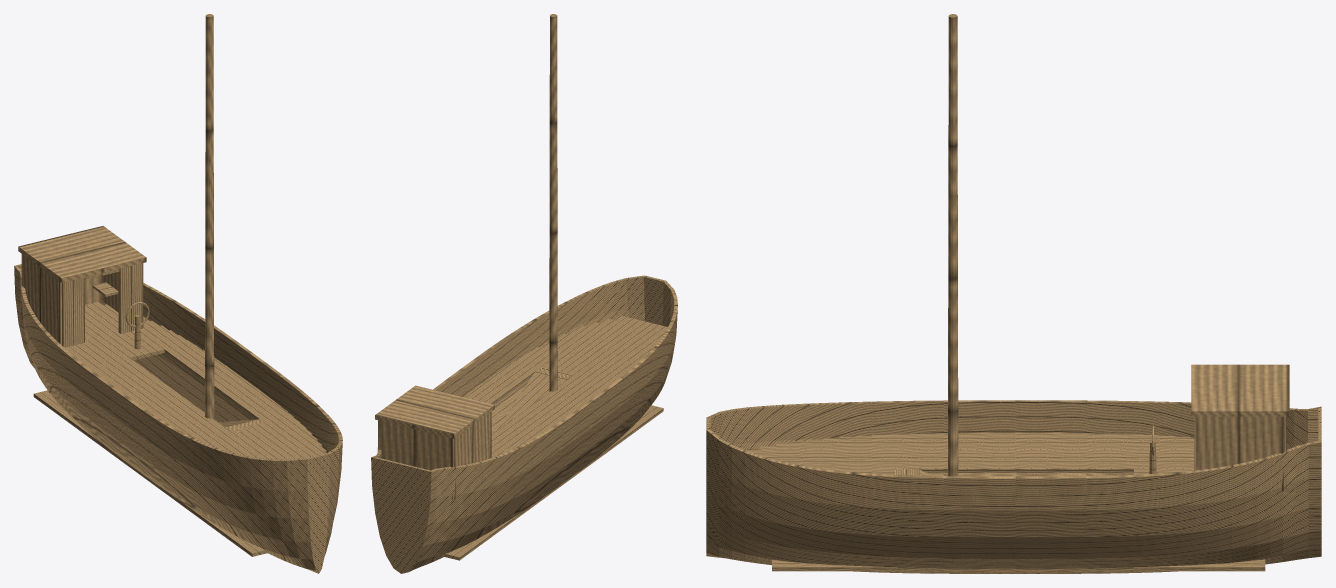
3 renders of one model, left to right at view 1: azimuth 30°, elevation 25°; view 2: azimuth 150°, elevation 25°; view 3: azimuth 270°, elevation 25°, orthographic. The views are drawn at different scales.
Visible parts, largest first — view 1: COL_Hull_shell, COL_Main_deck, COL_Quarterdeck, COL_Mast_0, COL_Cabin_side, COL_Hold_sole, COL_Cabin_front, COL_Cabin_front.001, COL_Cabin_side.001; view 2: COL_Hull_shell, COL_Main_deck, COL_Quarterdeck, COL_Mast_0, COL_Cabin_stern, COL_Cabin_side, COL_Hold_sole, COL_Companionway_ramp; view 3: COL_Hull_shell, COL_Main_deck, COL_Quarterdeck, COL_Mast_0, COL_Cabin_side.001, COL_Hold_sole.
Boxes of the visible parts, x1=… form: COL_Hull_shell: x1=14, y1=264, x2=342, y2=573; COL_Main_deck: x1=64, y1=301, x2=326, y2=459; COL_Quarterdeck: x1=18, y1=226, x2=146, y2=282; COL_Mast_0: x1=205, y1=14, x2=214, y2=418; COL_Cabin_side: x1=21, y1=254, x2=61, y2=345; COL_Hold_sole: x1=33, y1=390, x2=269, y2=556; COL_Cabin_front: x1=62, y1=277, x2=84, y2=347; COL_Cabin_front.001: x1=118, y1=263, x2=142, y2=333; COL_Cabin_side.001: x1=102, y1=263, x2=143, y2=327; COL_Hull_shell: x1=371, y1=275, x2=677, y2=573; COL_Main_deck: x1=463, y1=316, x2=667, y2=457; COL_Quarterdeck: x1=375, y1=385, x2=494, y2=438; COL_Mast_0: x1=549, y1=14, x2=557, y2=391; COL_Cabin_stern: x1=378, y1=420, x2=453, y2=499; COL_Cabin_side: x1=454, y1=412, x2=491, y2=499; COL_Hold_sole: x1=442, y1=405, x2=663, y2=560; COL_Companionway_ramp: x1=497, y1=372, x2=565, y2=429; COL_Hull_shell: x1=706, y1=400, x2=1321, y2=573; COL_Main_deck: x1=744, y1=433, x2=1286, y2=474; COL_Quarterdeck: x1=1191, y1=364, x2=1289, y2=416; COL_Mast_0: x1=948, y1=14, x2=958, y2=476; COL_Cabin_side.001: x1=1196, y1=416, x2=1283, y2=491; COL_Hold_sole: x1=772, y1=559, x2=1265, y2=571.
Size of the model in its own units: 5.16 by 16.98 by 17.14.
Materials: 5 (5 with a texture image).
